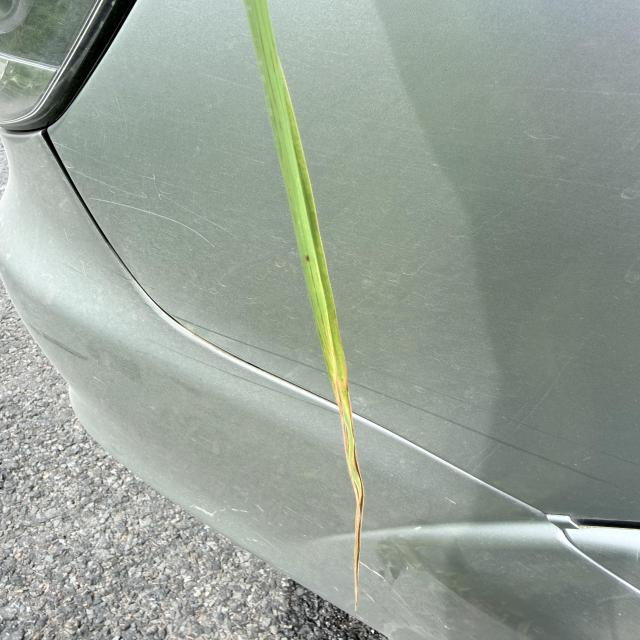Chay bia la: (331, 376, 364, 608)
